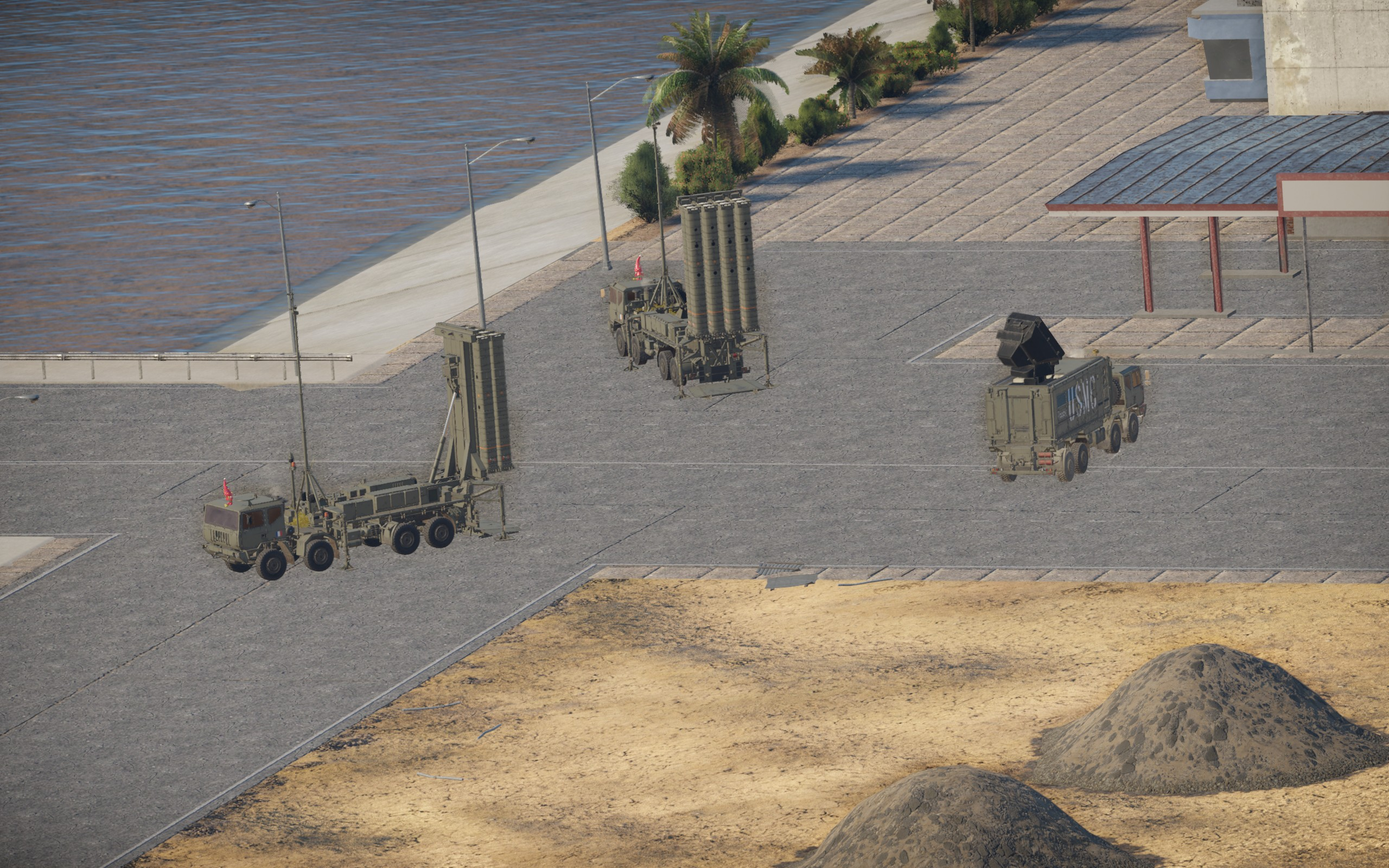spaa_TEL: (201, 322, 514, 581), (599, 188, 773, 397)
spaa_tads: (987, 313, 1146, 482)
